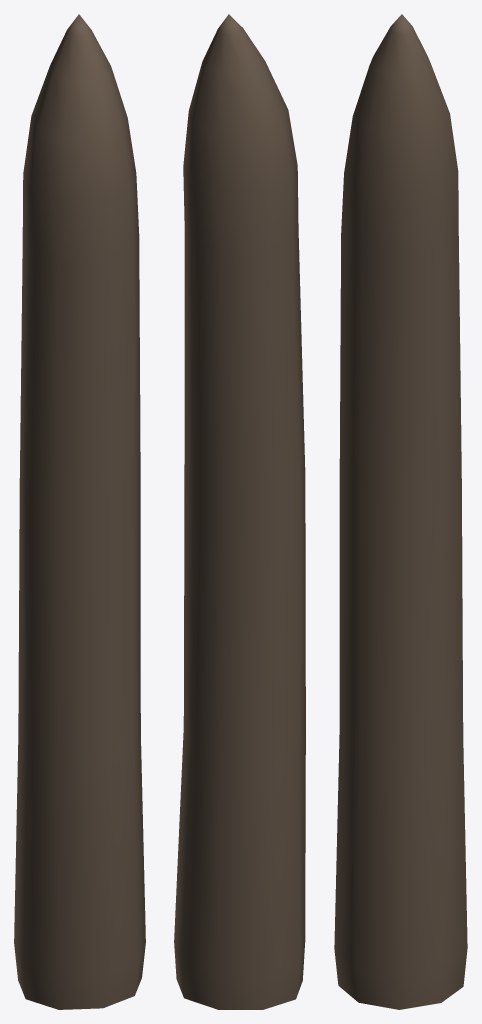
The model's file is palisade_b.glb.
3 views of the same model, side by side, from view 1: azimuth 90°, elevation 25°; view 2: azimuth 210°, elevation 25°; view 3: azimuth 270°, elevation 25° (orthographic).
Parts seen in each view (by area): view 1: palisade_b; view 2: palisade_b; view 3: palisade_b.
Part boxes in pixels (x1=…): palisade_b: x1=14, y1=14, x2=145, y2=1009; palisade_b: x1=174, y1=14, x2=305, y2=1009; palisade_b: x1=334, y1=14, x2=467, y2=1009.
Size of the model in its own units: 0.379 by 3.11 by 0.3852.
